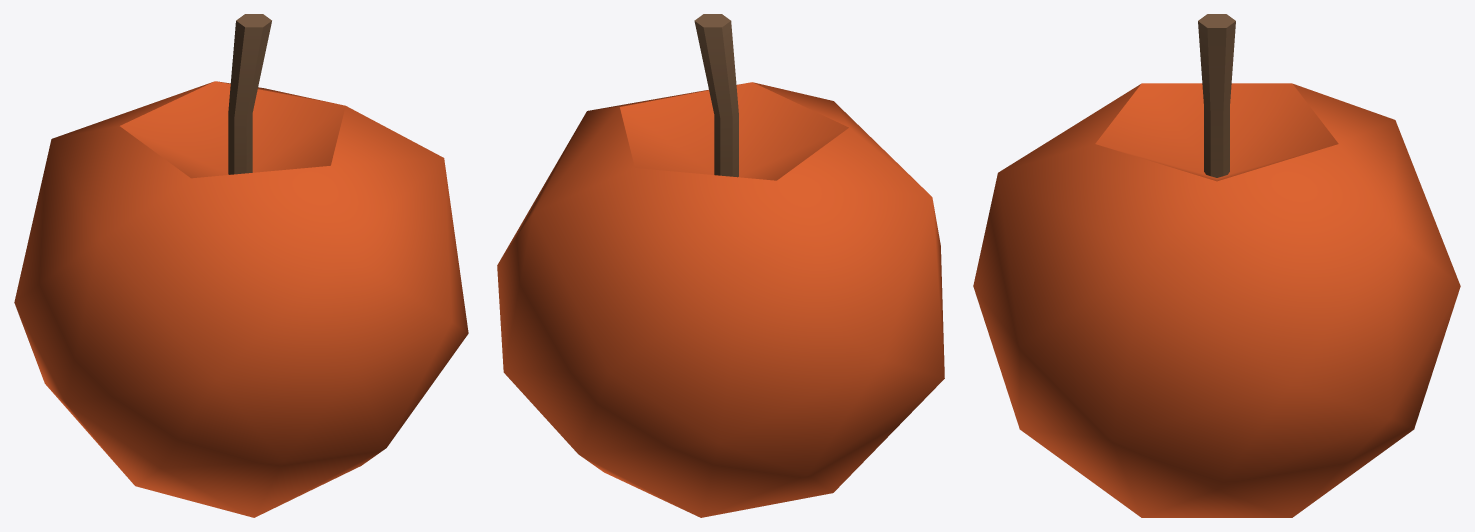
File: Food_02.glb
3 renders of one model, left to right at view 1: azimuth 30°, elevation 25°; view 2: azimuth 150°, elevation 25°; view 3: azimuth 270°, elevation 25°, orthographic. The views are drawn at different scales.
Parts seen in each view (by area): view 1: Food_02_LOD0; view 2: Food_02_LOD0; view 3: Food_02_LOD0.
Part boxes in pixels (left/top/right/bottom): Food_02_LOD0: left=14, top=14, right=468, bottom=517; Food_02_LOD0: left=497, top=14, right=944, bottom=517; Food_02_LOD0: left=973, top=14, right=1460, bottom=517.
Size of what is drawn, in the model's own units: 0.112 by 0.1296 by 0.1164.
1 material, 1 textured.
